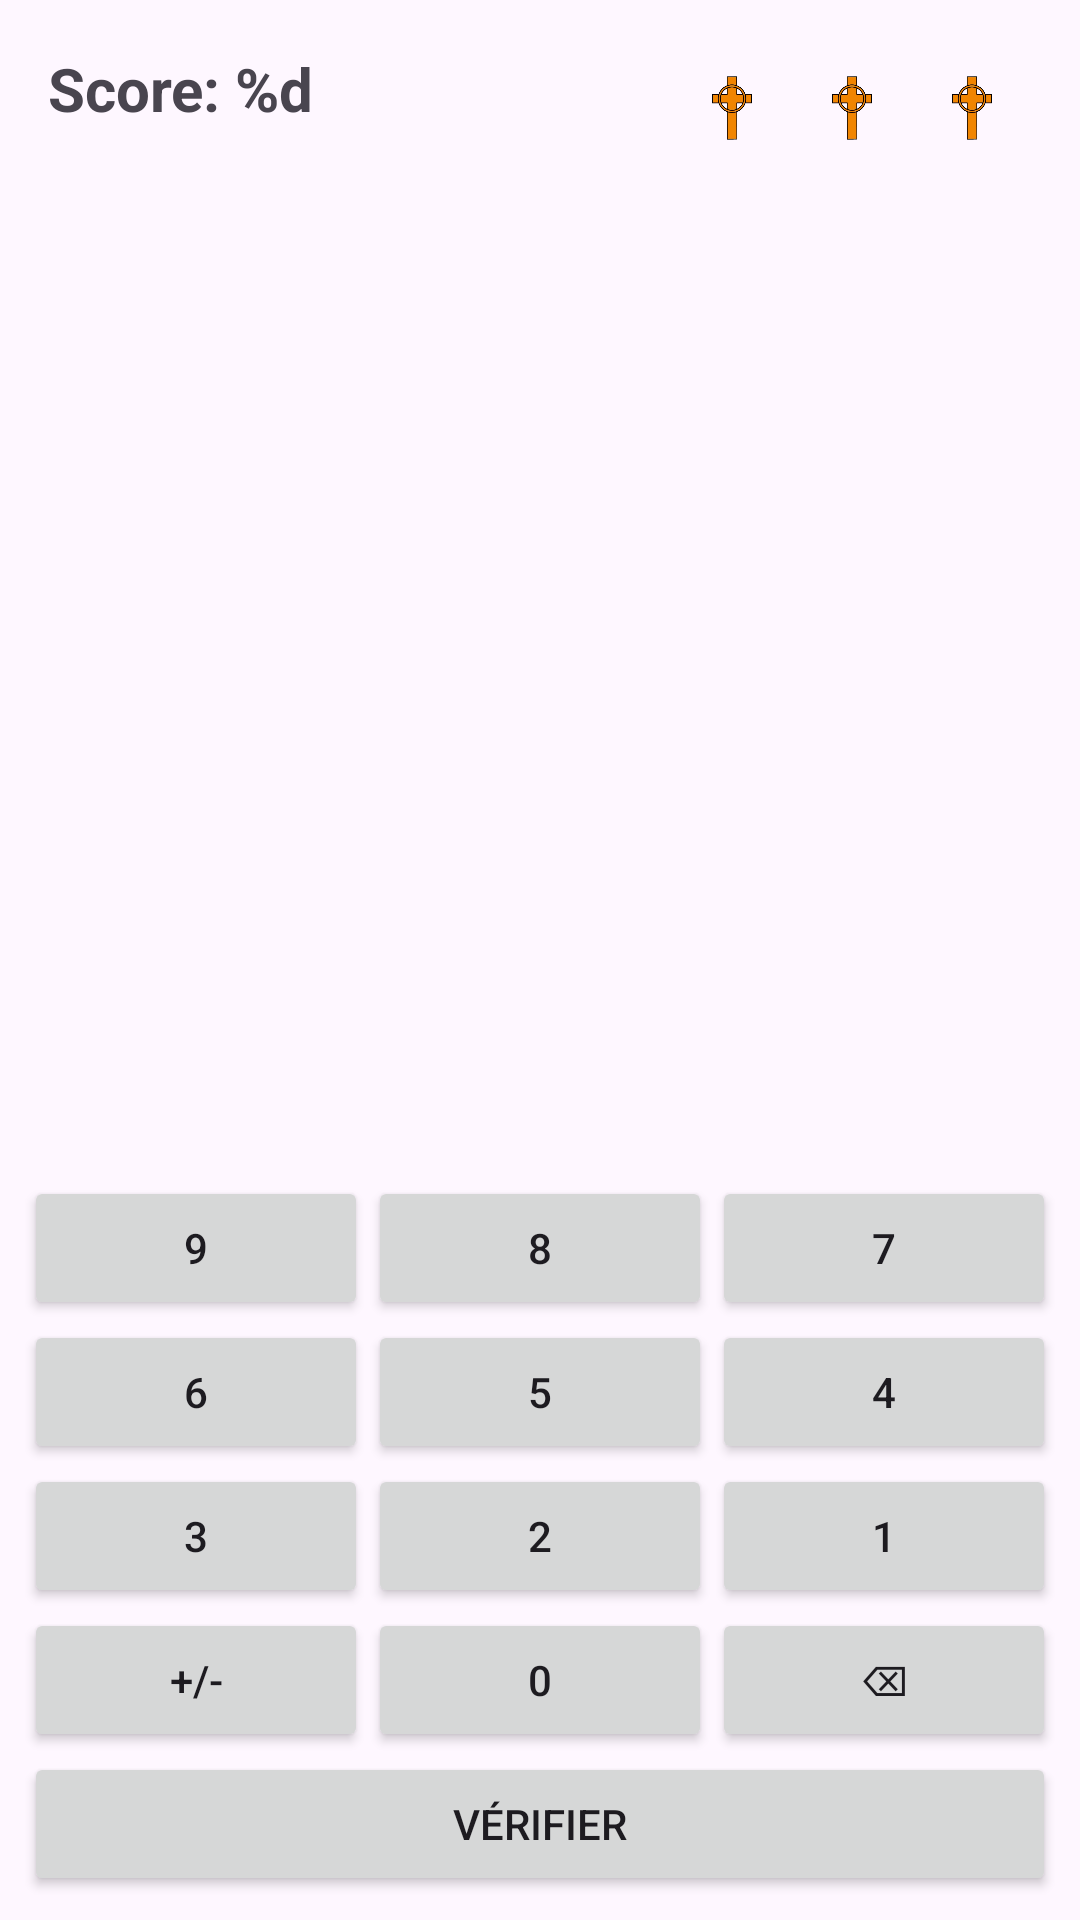

Named icons in this screenshot (1080 × 1920) and their bounding boxes, (left=x1, top=y1, right=x2, bottom=y2):
cross: (left=712, top=76, right=752, bottom=140), (left=832, top=76, right=872, bottom=140), (left=952, top=76, right=992, bottom=140)
